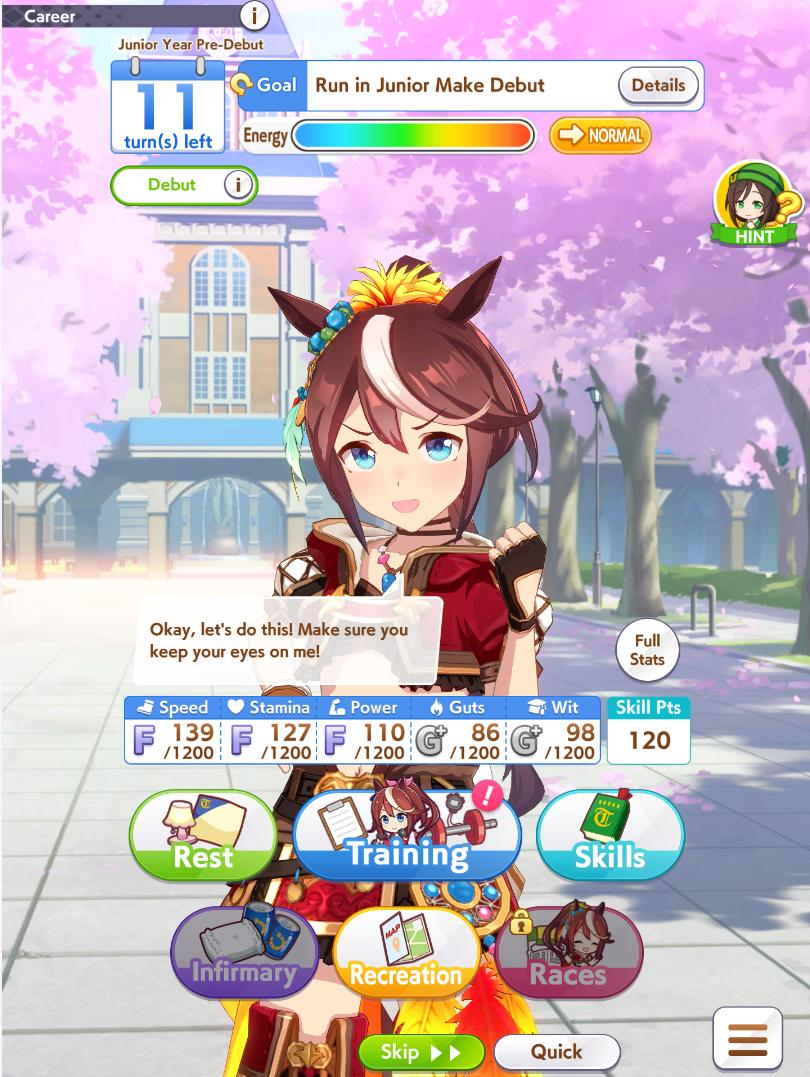Energy: (235, 112, 541, 160)
normal: (550, 115, 657, 157)
recreation: (334, 903, 486, 1000)
rest: (128, 785, 277, 883)
skill: (536, 784, 685, 884)
training: (294, 787, 527, 882)
turns: (105, 53, 230, 157)
